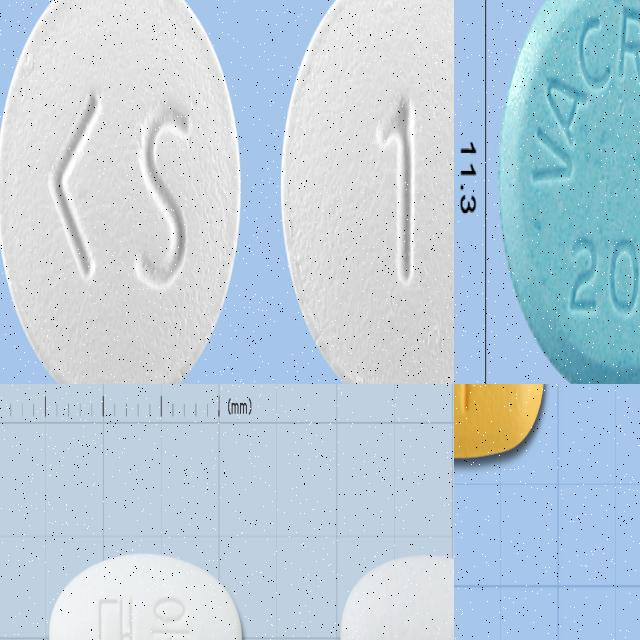Levofxa: (0, 0, 243, 384), (280, 0, 454, 384)
Moxicle Tab-625mg: (49, 550, 241, 640), (341, 554, 454, 640)
Rulid Tab: (454, 384, 544, 457)
Valcyte Tab: (497, 0, 640, 384)
